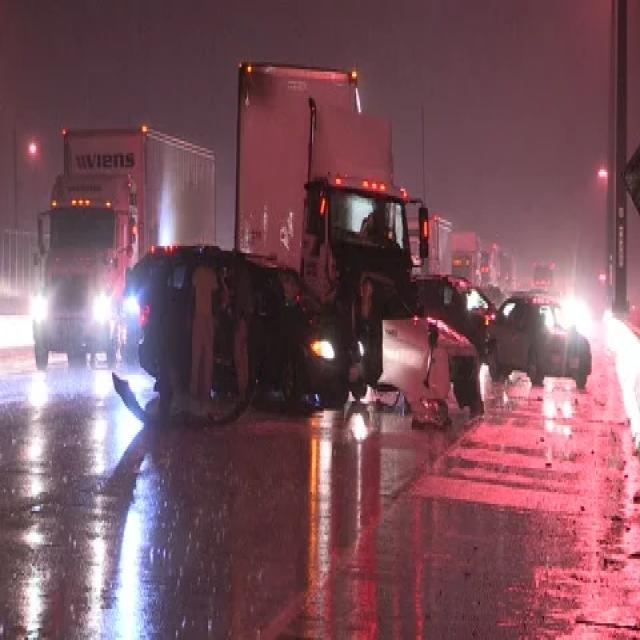Accident: (103, 215, 494, 470)
